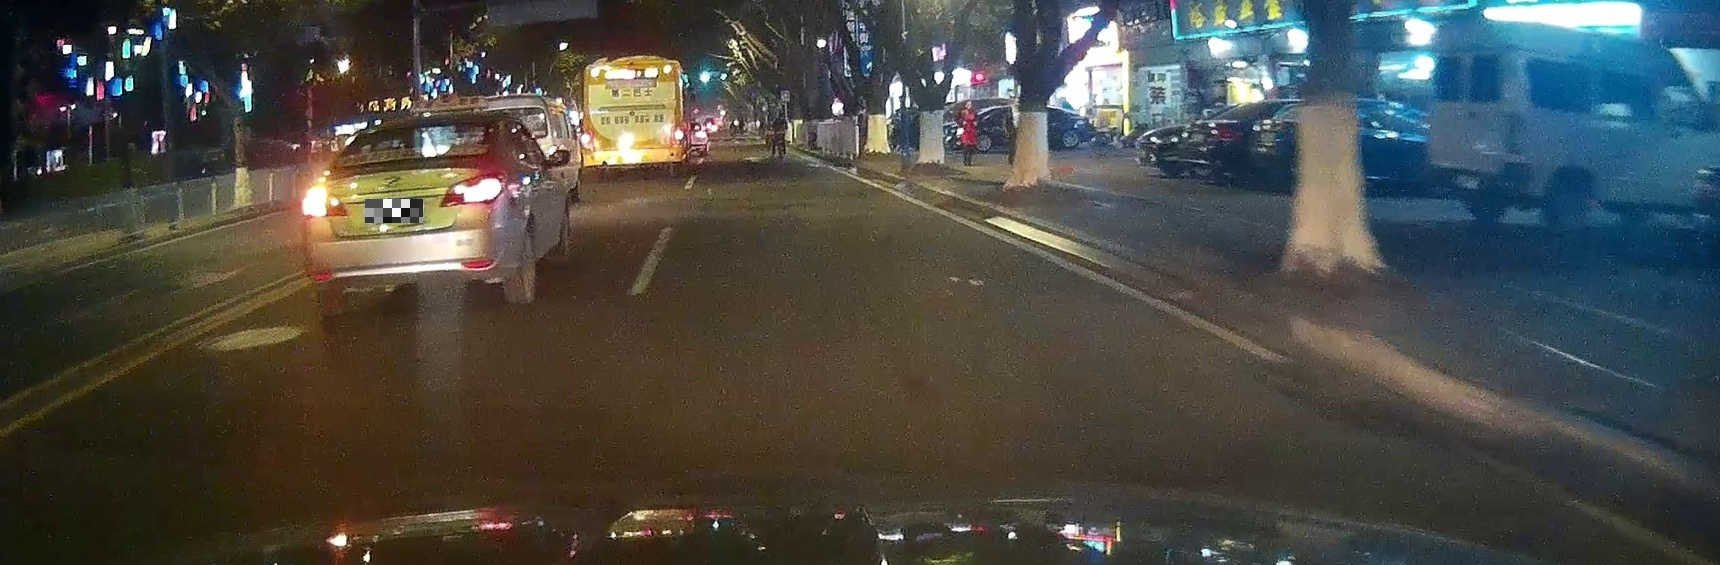L_light: (301, 183, 348, 217), (582, 129, 595, 150)
R_light: (440, 171, 506, 205), (671, 127, 683, 144)
T_light: (408, 125, 442, 132), (625, 63, 643, 69)
night-left: (302, 112, 507, 314)
night-no: (582, 55, 684, 176)
plate_1: (365, 199, 423, 223)
